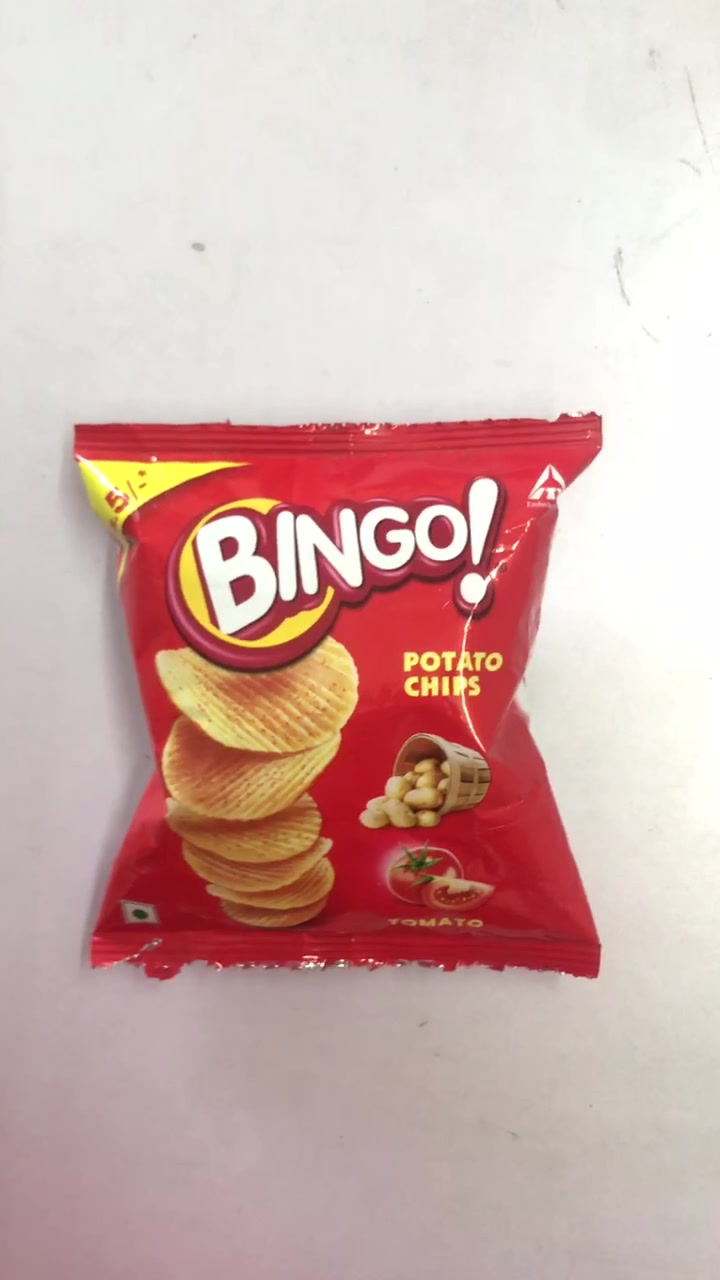Bingo: (71, 421, 596, 980)
